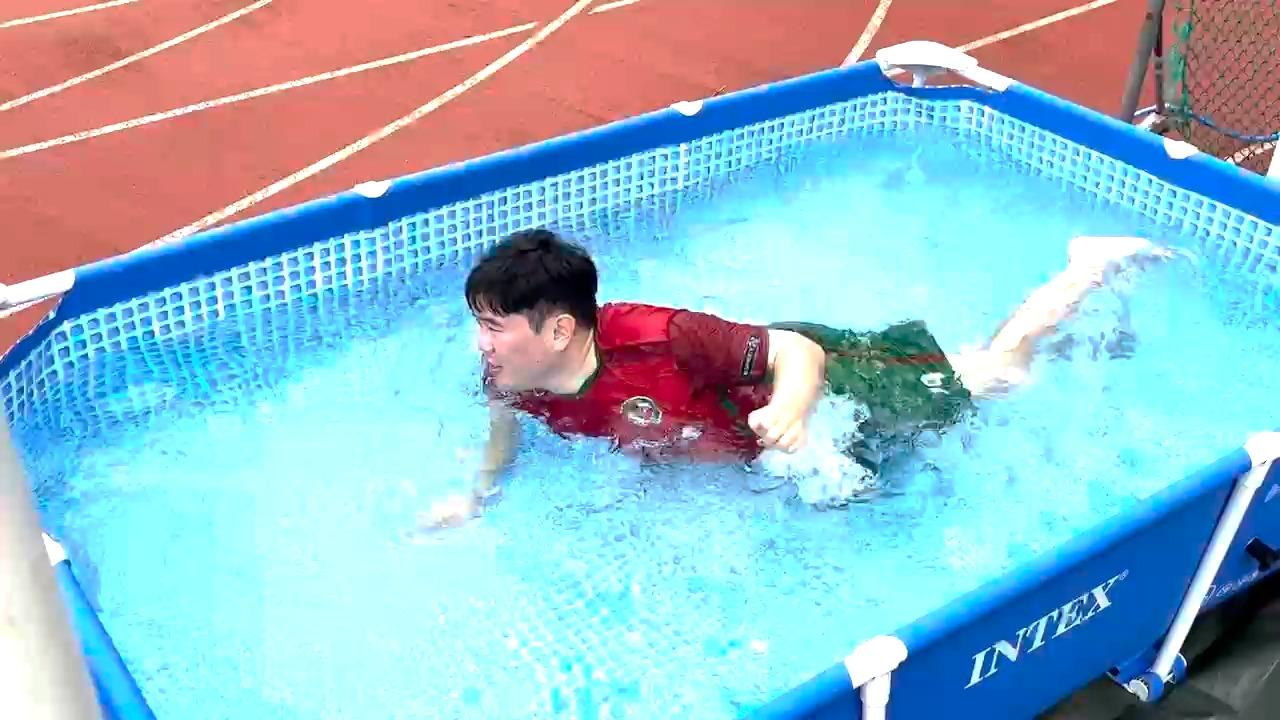Swimming: (353, 179, 1197, 553)
